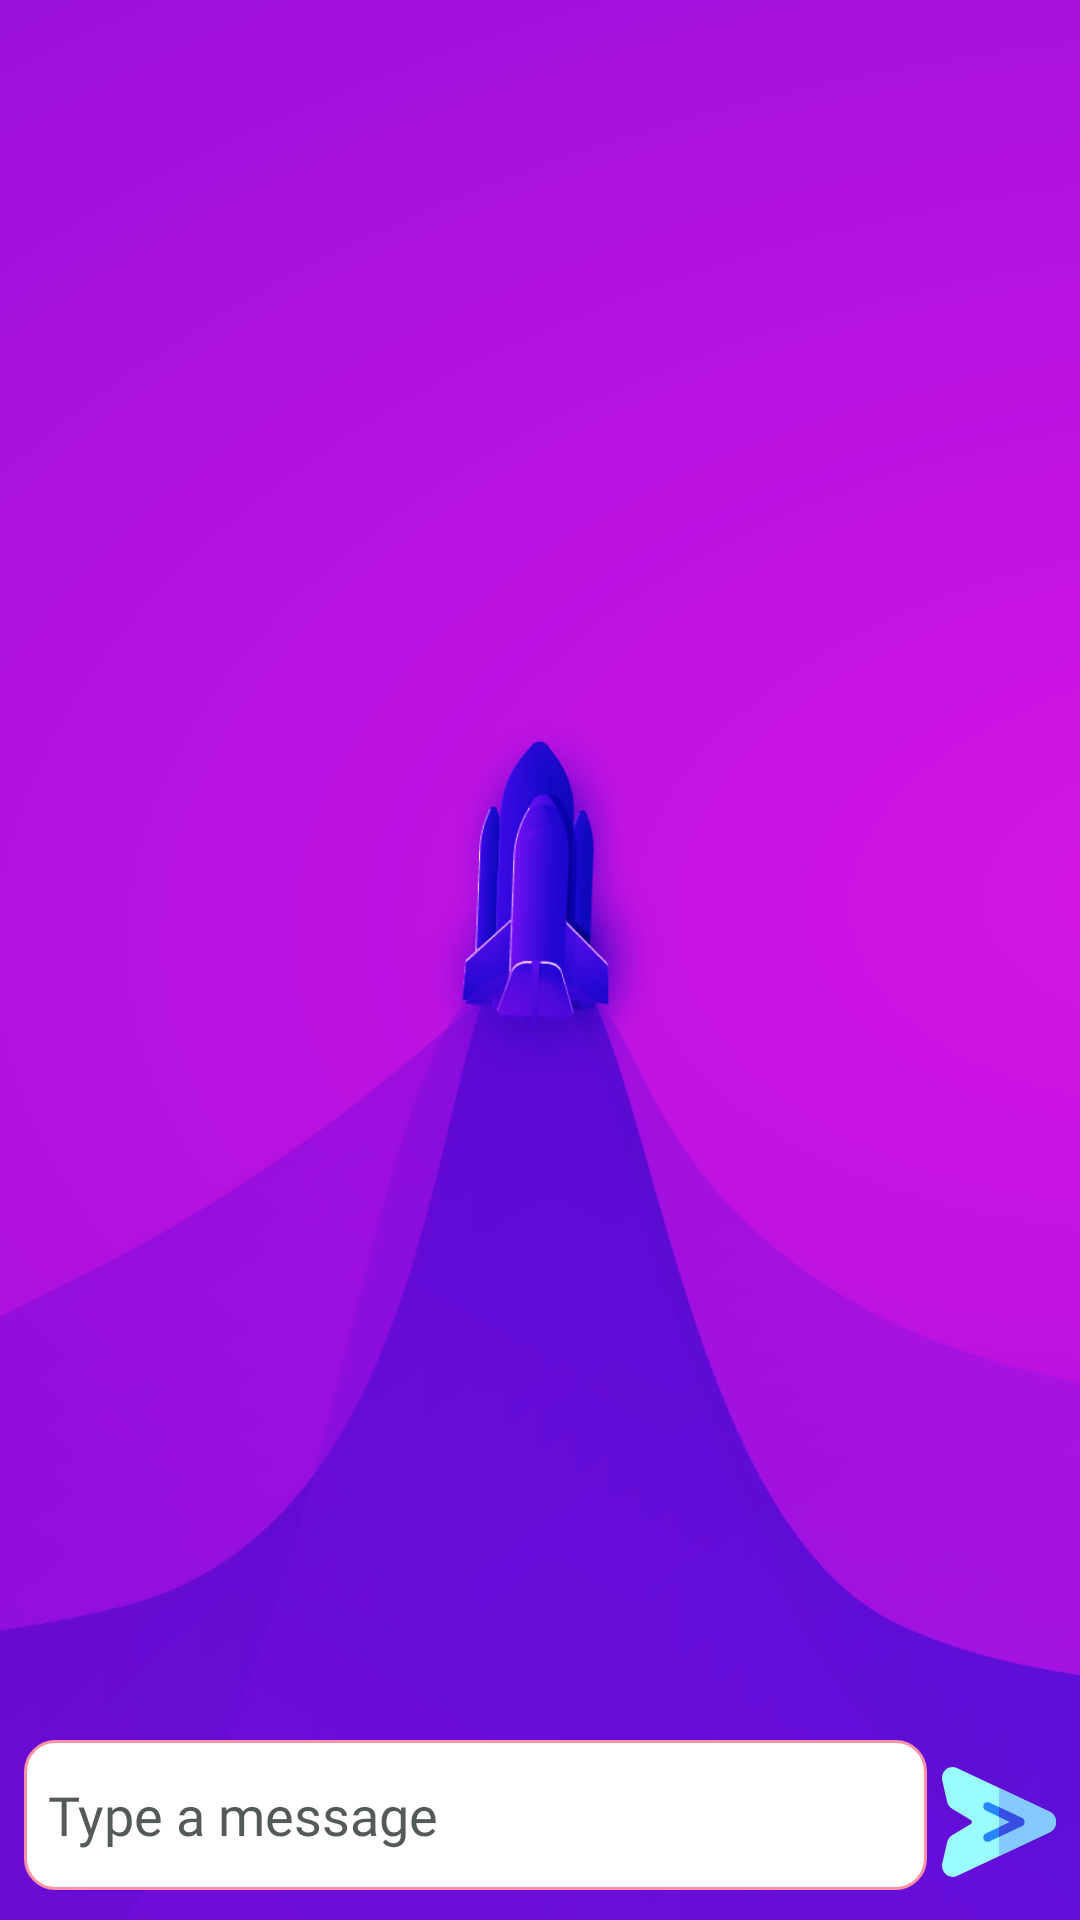

Screen size 1080*1920. Icon name, then its center in pixels as point (x, y):
send second: point (999, 1822)
